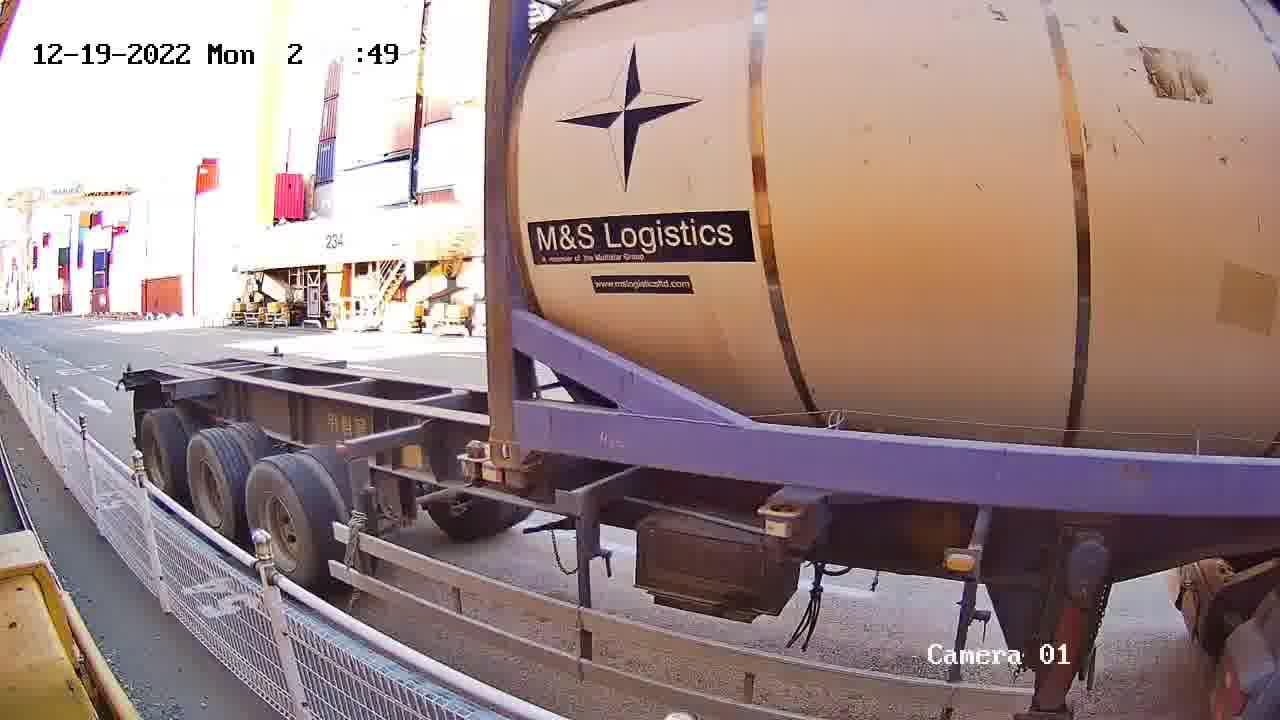Cone: (458, 438, 483, 487), (492, 467, 529, 495)
Hole_L: (489, 416, 557, 471)
Tire: (242, 462, 313, 579), (185, 436, 230, 528), (140, 418, 175, 491)
